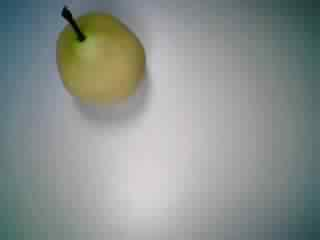pear: (40, 4, 150, 110)
